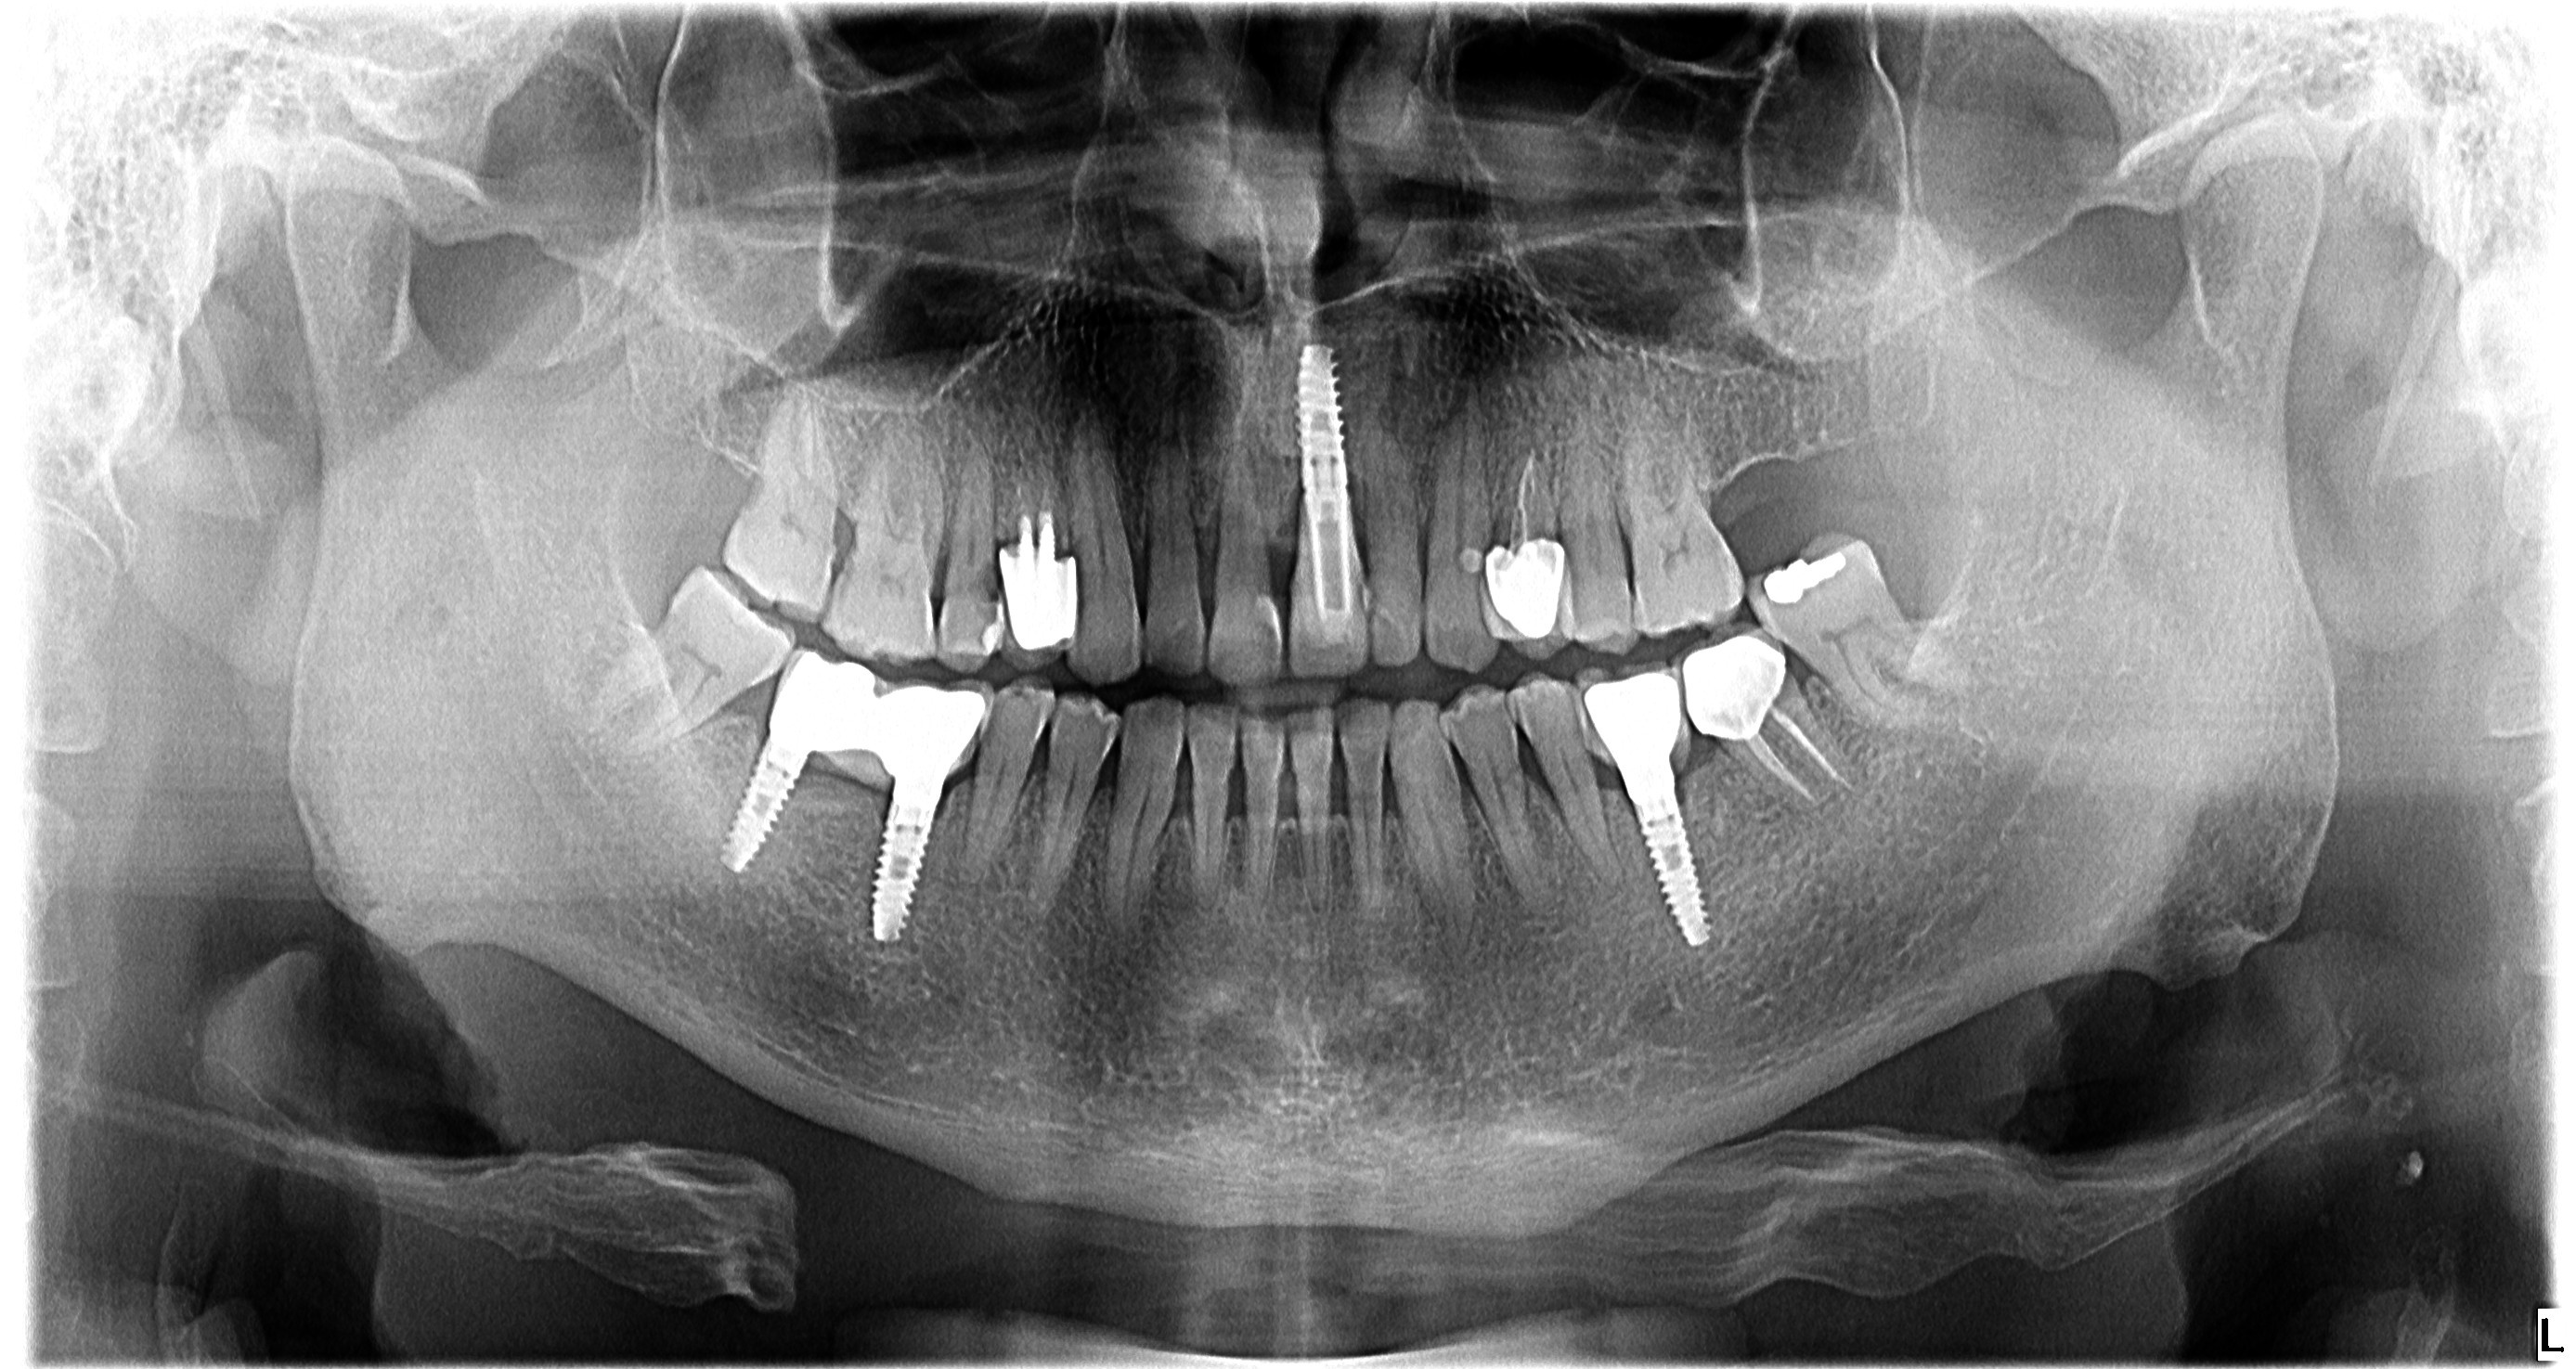BON: (1177, 485, 1235, 603), (1508, 759, 1583, 836), (1254, 484, 1307, 587), (1123, 516, 1165, 618), (1153, 765, 1206, 839), (1206, 765, 1261, 836), (1310, 763, 1360, 838), (1262, 765, 1307, 839), (1368, 761, 1409, 829)
CAR: (964, 557, 1014, 621)
END: (1734, 717, 1874, 817), (1496, 438, 1552, 545)
IMP: (1583, 790, 1738, 962), (814, 799, 961, 962), (1281, 339, 1368, 541), (702, 736, 802, 896)
OBT: (1750, 536, 1864, 621), (968, 596, 1015, 664), (1436, 535, 1492, 584)
PRR: (760, 637, 995, 809), (1656, 608, 1813, 742), (1562, 647, 1692, 792), (1273, 519, 1377, 679), (985, 514, 1095, 657), (1469, 541, 1579, 662)
